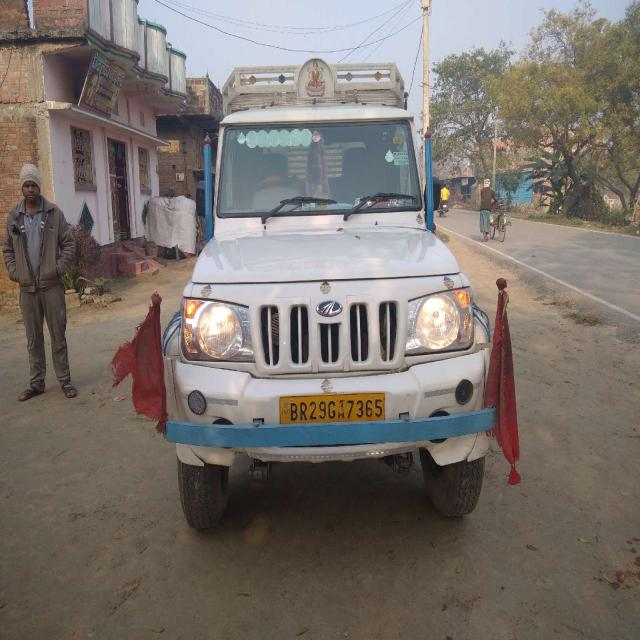light_vehicle: (160, 119, 494, 482)
